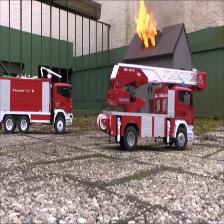fire: (134, 7, 160, 50)
